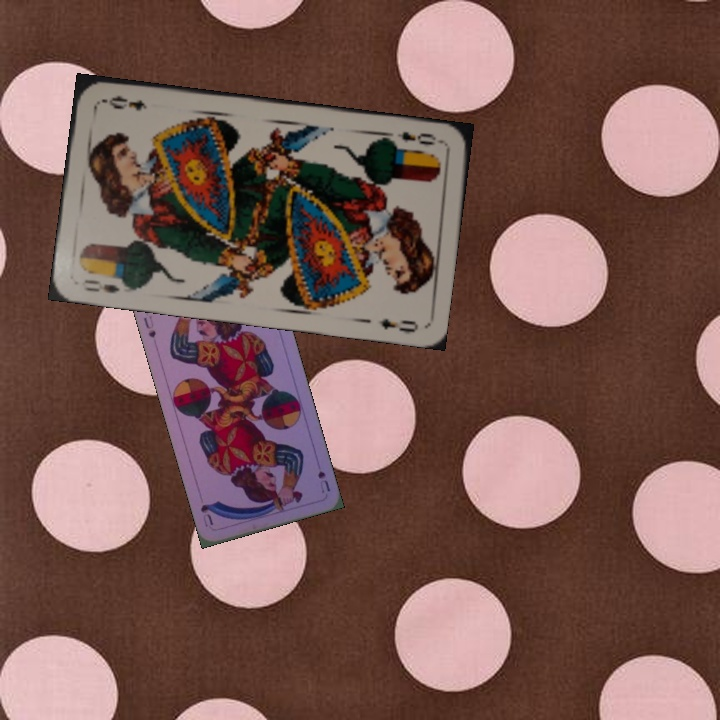EO: (393, 127, 445, 148), (79, 275, 123, 296)
SU: (139, 311, 158, 341), (314, 467, 333, 496)
